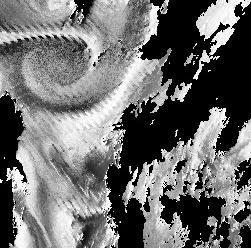AE: (19, 23, 106, 113)
